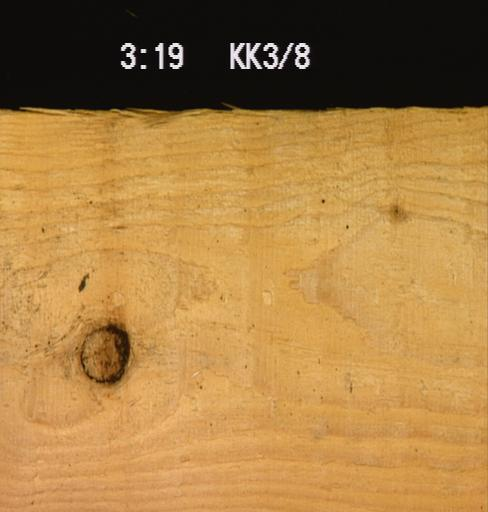wave: (6, 105, 296, 119)
